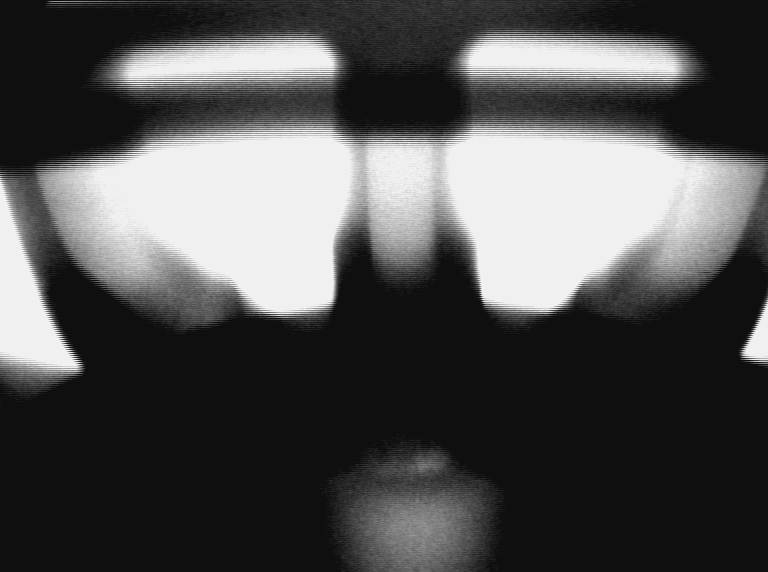defect: (401, 442, 458, 486)
